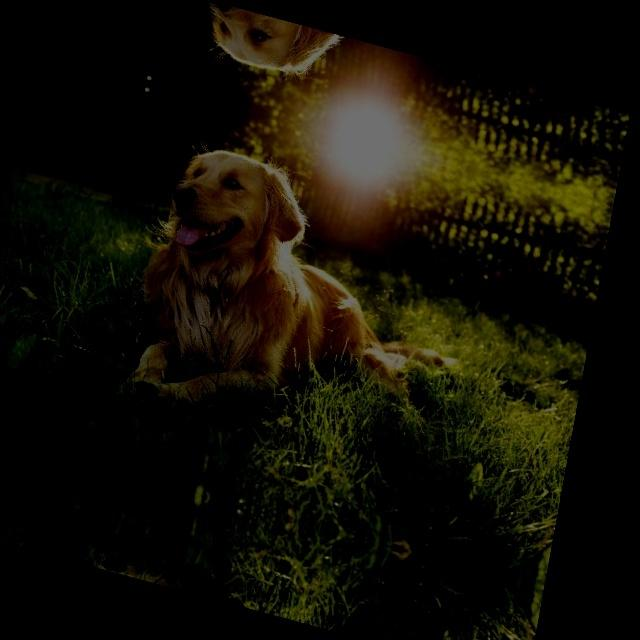dog: (120, 124, 408, 474), (185, 0, 432, 121), (93, 532, 334, 630)
